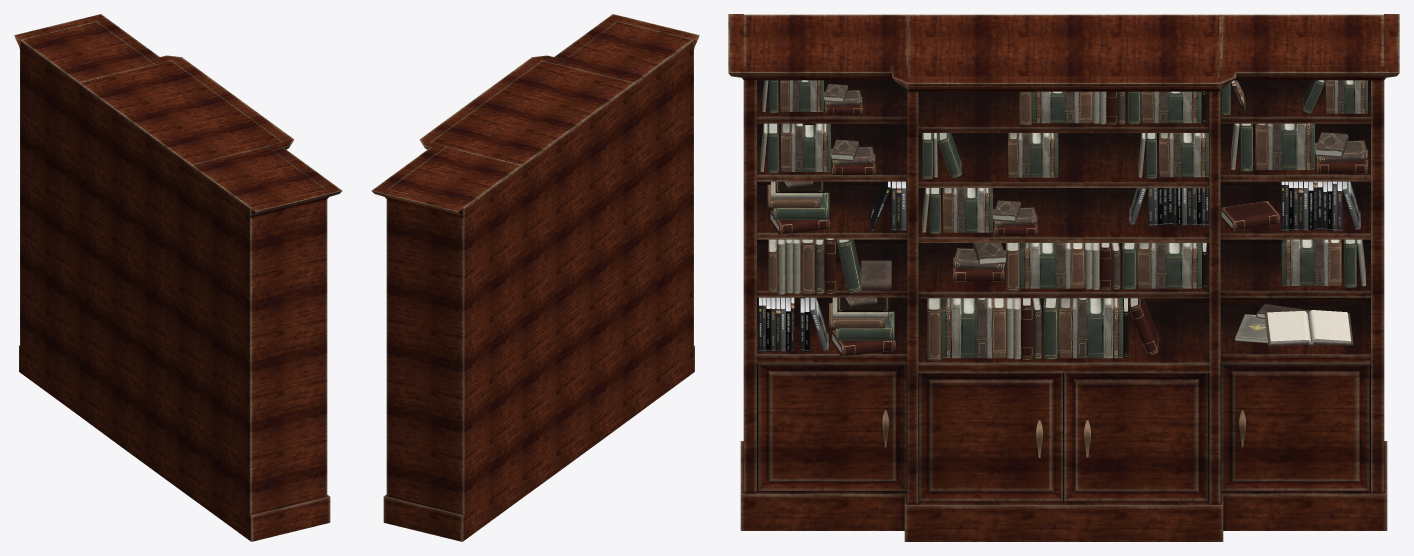
File: bookshelf_pbr.glb
3 views of the same model, side by side, from view 1: azimuth 30°, elevation 25°; view 2: azimuth 150°, elevation 25°; view 3: azimuth 270°, elevation 25° (orthographic). The views are drawn at different scales.
Visible parts, largest first — view 1: shkaff_obj_1; view 2: shkaff_obj_1; view 3: shkaff_obj_1, BOOKS_1.
Part boxes in pixels (box(x1,y1,x2,y2)): shkaff_obj_1: box(14, 14, 342, 541); shkaff_obj_1: box(371, 14, 699, 541); shkaff_obj_1: box(728, 14, 1399, 541); BOOKS_1: box(758, 80, 1368, 360).
Size of the model in its own units: 1.24 by 3.82 by 5.01.
Materials: 13 (12 with a texture image).
